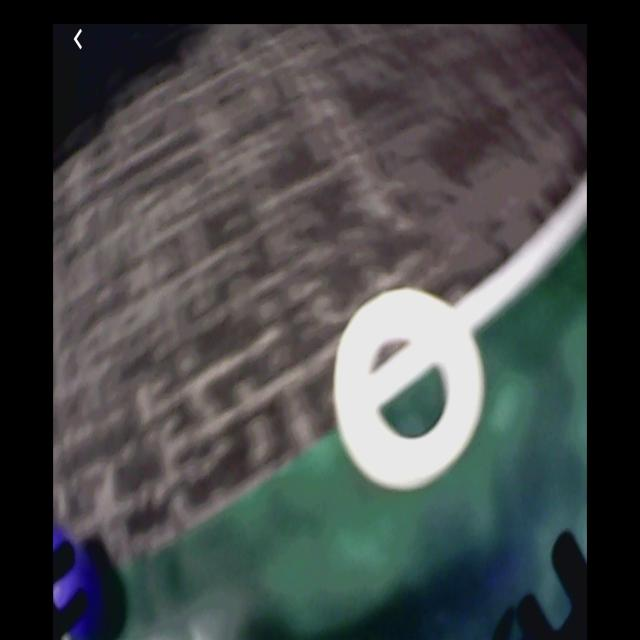ball: (53, 521, 100, 640)
